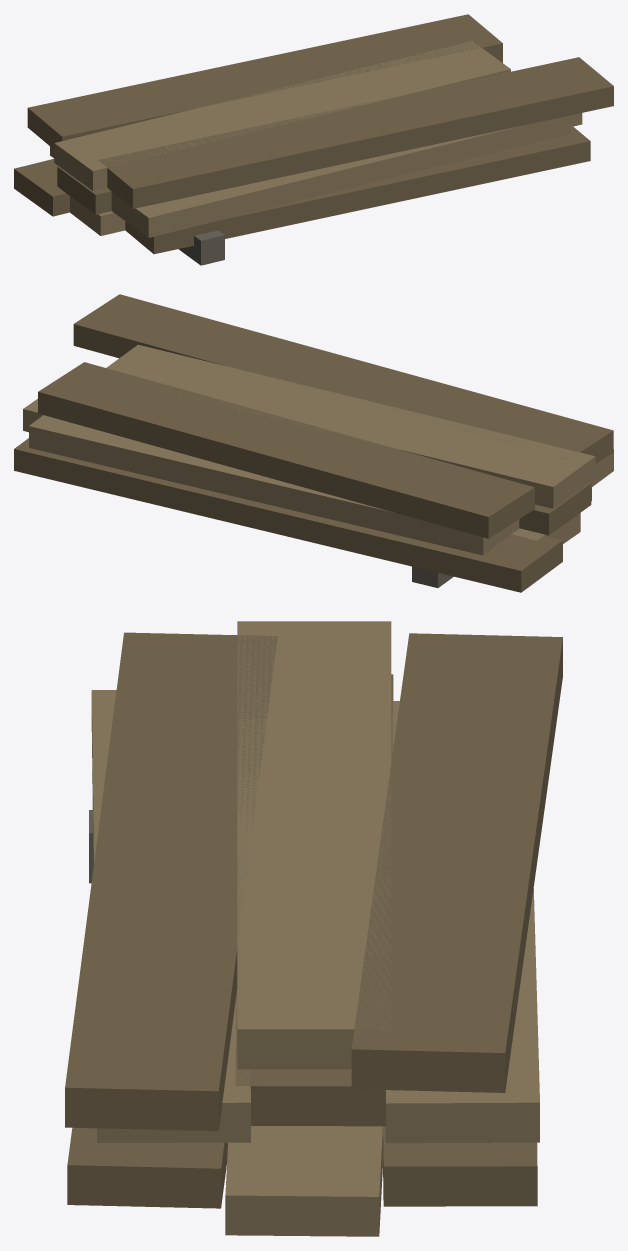
Rendered from a3s_plank_stack.glb.
The picture shows the model from 3 angles, top to bottom: view 1: azimuth 30°, elevation 25°; view 2: azimuth 150°, elevation 25°; view 3: azimuth 270°, elevation 25°; orthographic projection. The views are drawn at different scales.
Parts seen in each view (by area): view 1: a3s_plank_stack; view 2: a3s_plank_stack; view 3: a3s_plank_stack.
Boxes of the visible parts, x1,y1,x2,y2 form: a3s_plank_stack: [14, 14, 613, 265]; a3s_plank_stack: [14, 294, 613, 592]; a3s_plank_stack: [65, 621, 562, 1236].
Bounding box in the file's own units: 2.07 × 0.34 × 0.9058.
